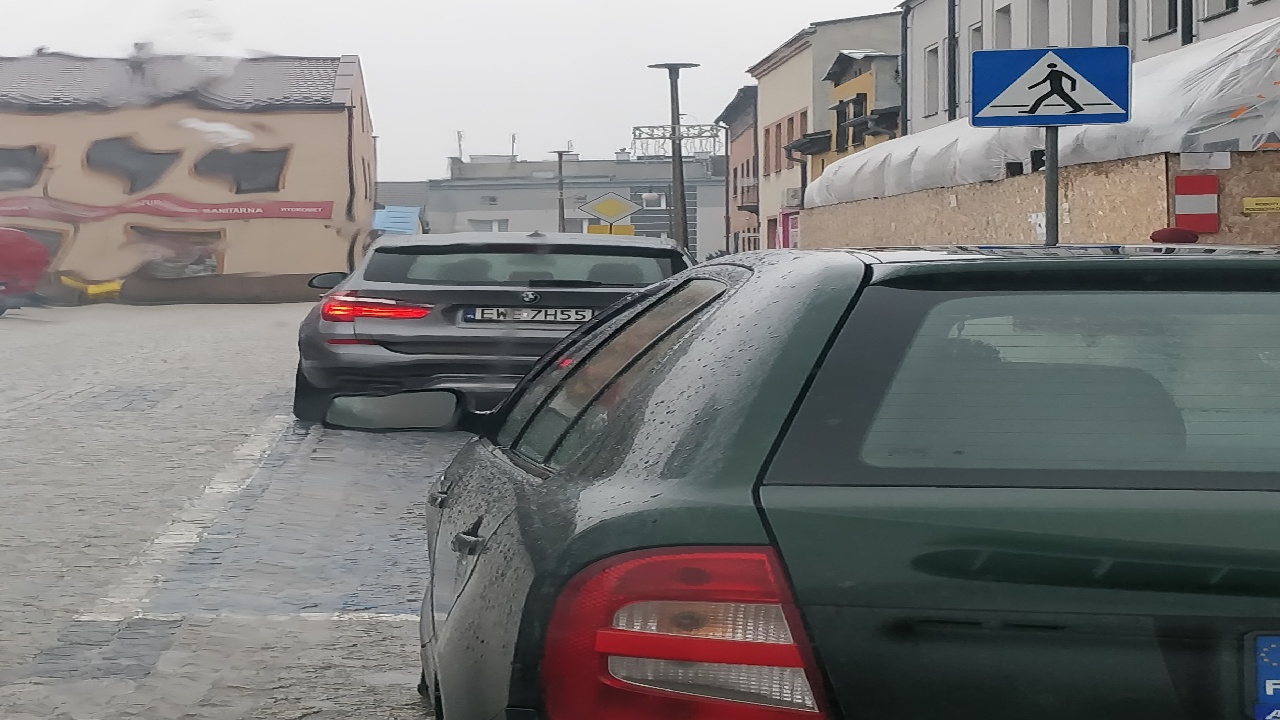D1: (579, 192, 643, 222)
D6: (970, 45, 1132, 126)
